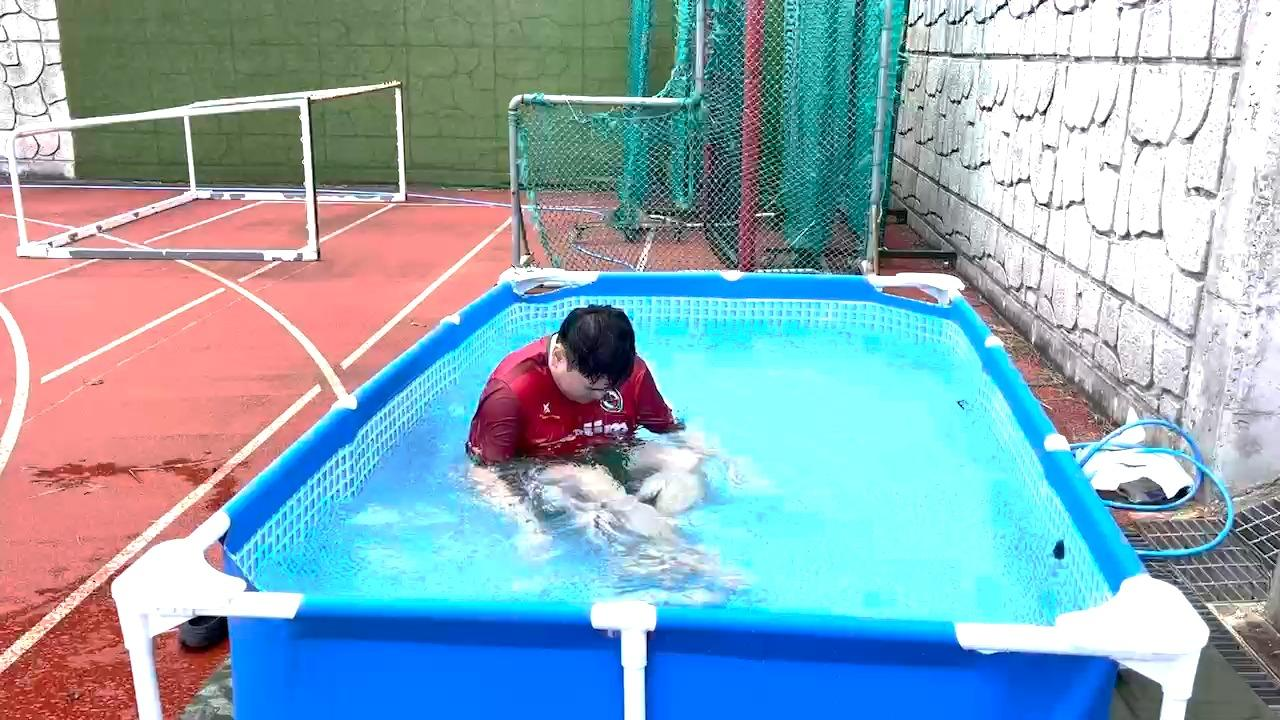Drowning: (471, 307, 724, 575)
